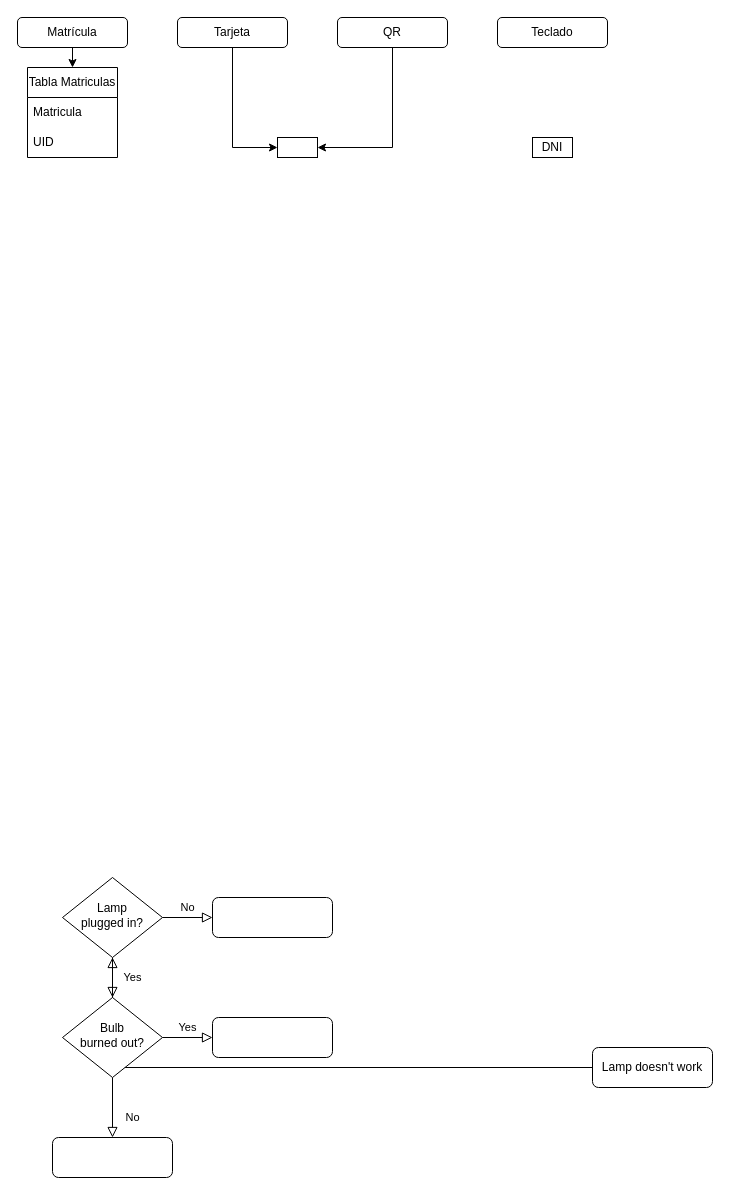
Some shapes in this 730 by 1195 pixel diagram are drawn without their labels. Each missing label, with the centre of its shape:
PAN: (x=297, y=147)
Plug in lamp: (x=272, y=917)
Repair Lamp: (x=112, y=1157)
Replace Bulb: (x=272, y=1037)
